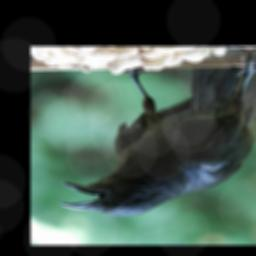Crow: (58, 50, 256, 216)
